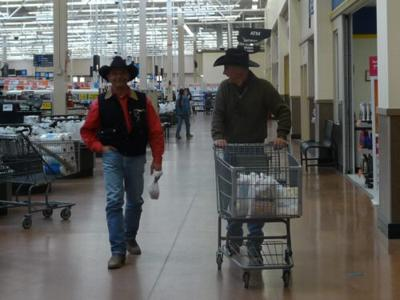person: (211, 47, 294, 267)
